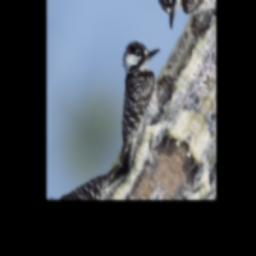Woodpecker: (83, 22, 199, 184)
